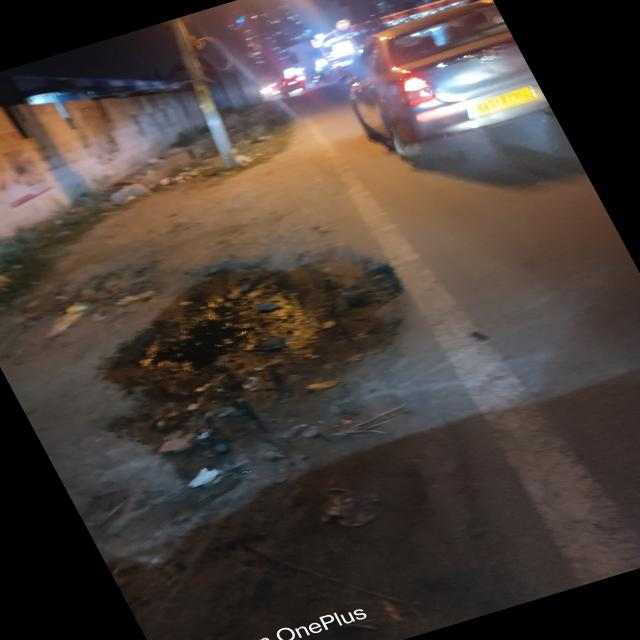potholes: (100, 263, 399, 446)
